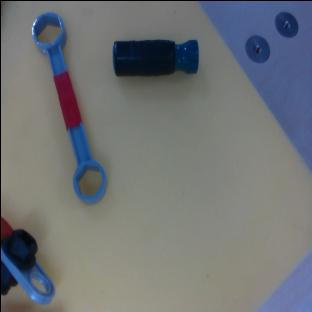part_1_good: (0, 216, 55, 304)
part_2_bad: (111, 38, 198, 77)
part_3_good: (26, 8, 111, 207)
